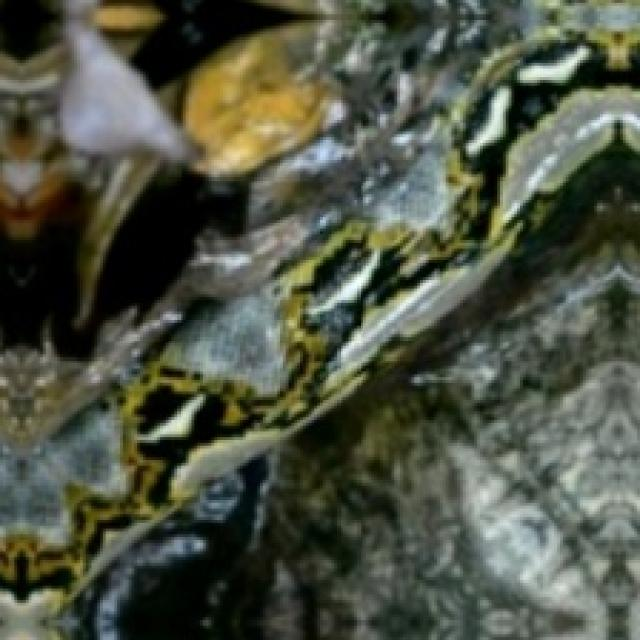reticulated python: (0, 41, 640, 597)
